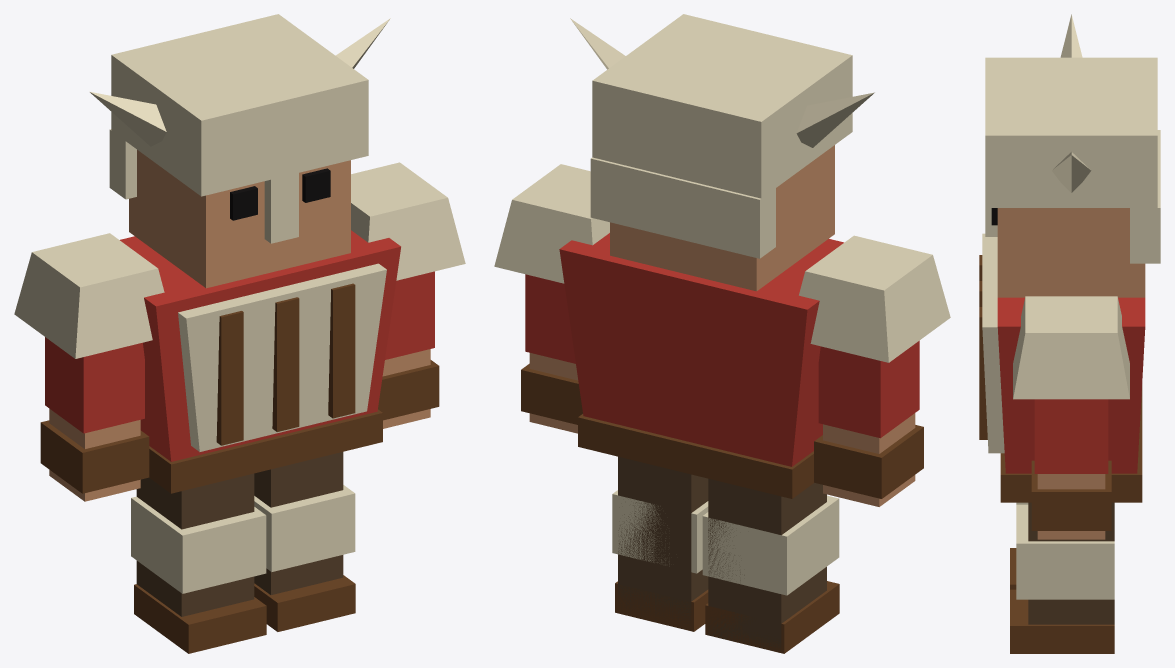
The model's file is Tank.obj.
3 renders of one model, left to right at view 1: azimuth 30°, elevation 25°; view 2: azimuth 150°, elevation 25°; view 3: azimuth 270°, elevation 25°, orthographic. The views are drawn at different scales.
Parts seen in each view (by area): view 1: Head, Torso, ArmL, LegL, ArmR, LegR; view 2: Head, Torso, ArmL, LegL, ArmR, LegR; view 3: Head, ArmR, Torso, LegR, LegL.
Part boxes in pixels (x1=…): Head: x1=89, y1=14, x2=390, y2=288; Torso: x1=120, y1=230, x2=400, y2=493; ArmL: x1=14, y1=233, x2=164, y2=501; LegL: x1=131, y1=473, x2=266, y2=653; ArmR: x1=351, y1=162, x2=465, y2=428; LegR: x1=254, y1=452, x2=355, y2=631; Head: x1=570, y1=14, x2=874, y2=291; Torso: x1=559, y1=233, x2=843, y2=498; ArmL: x1=799, y1=235, x2=950, y2=506; LegL: x1=702, y1=478, x2=839, y2=653; ArmR: x1=494, y1=164, x2=609, y2=433; LegR: x1=612, y1=456, x2=708, y2=631; Head: x1=985, y1=14, x2=1160, y2=297; ArmR: x1=1013, y1=296, x2=1129, y2=539; Torso: x1=979, y1=233, x2=1145, y2=502; LegR: x1=1010, y1=502, x2=1114, y2=653; LegL: x1=1010, y1=502, x2=1028, y2=589.
Size of the model in its own units: 0.7 by 0.9518 by 0.295.
